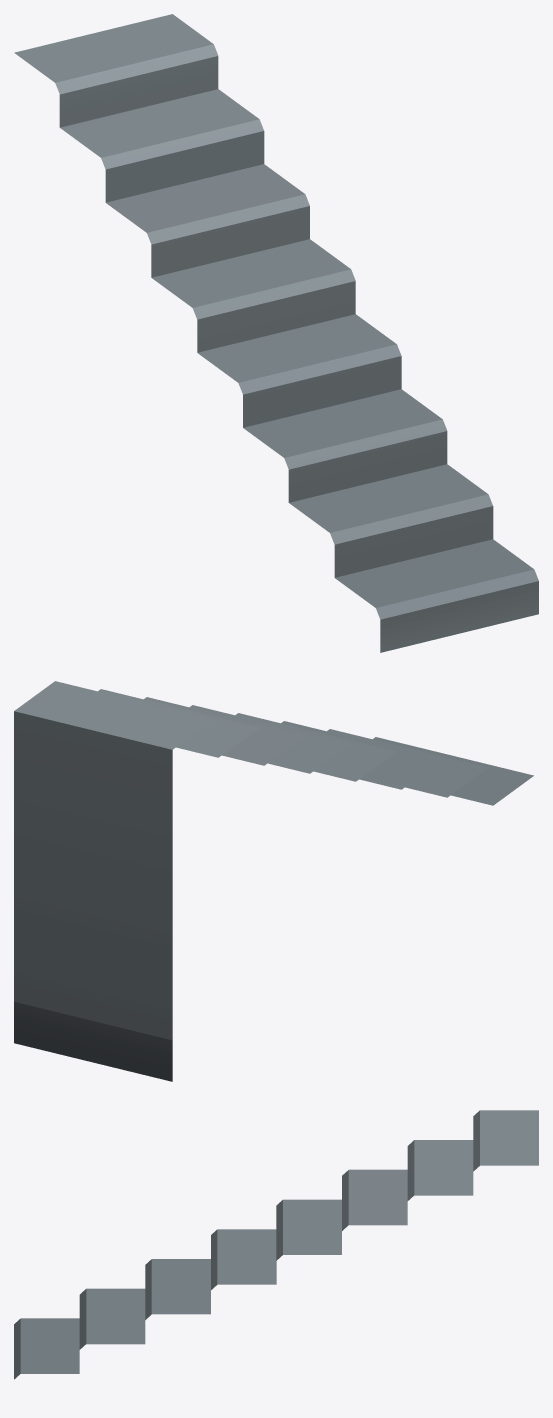
The model's file is stairs_long_modular_center.glb.
3 renders of one model, top to bottom at view 1: azimuth 30°, elevation 25°; view 2: azimuth 150°, elevation 25°; view 3: azimuth 270°, elevation 25°, orthographic. The views are drawn at different scales.
Visible parts, largest first — view 1: stairs_long_modular_center; view 2: stairs_long_modular_center; view 3: stairs_long_modular_center.
Boxes of the visible parts, <box> form: stairs_long_modular_center: <box>14,14,538,652</box>; stairs_long_modular_center: <box>14,681,533,1081</box>; stairs_long_modular_center: <box>14,1110,538,1379</box>.
Size of the model in its own units: 2 by 4 by 8.
Materials: 1 (1 with a texture image).
